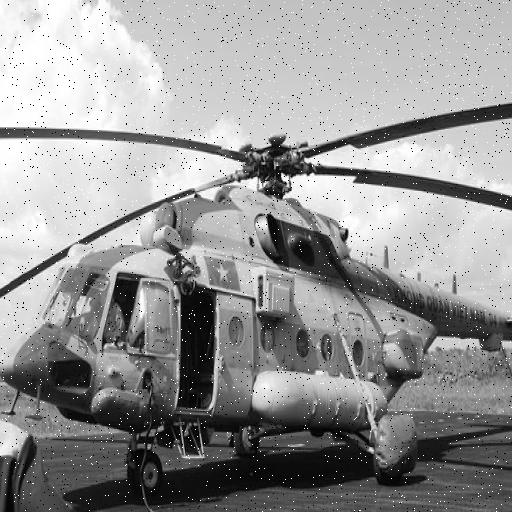helicopter: (3, 57, 512, 447)
